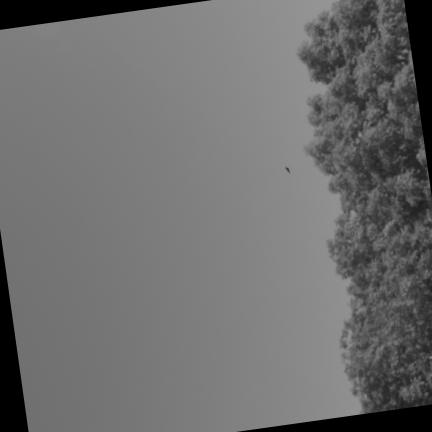Shahed: (284, 165, 290, 172)
